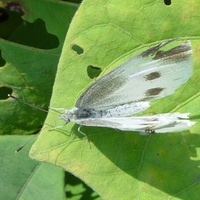insect: (33, 37, 199, 158)
